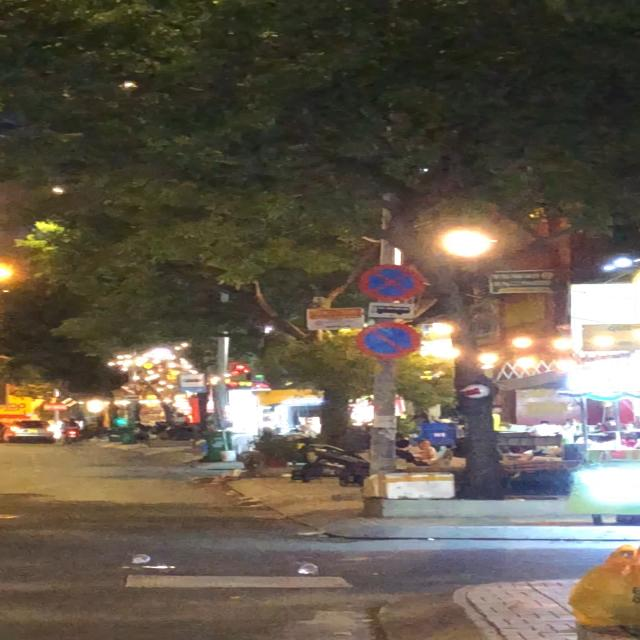Bien bao cam do xe: (356, 320, 428, 362)
Bien bao cam dung xe va do xe: (360, 263, 429, 304)
